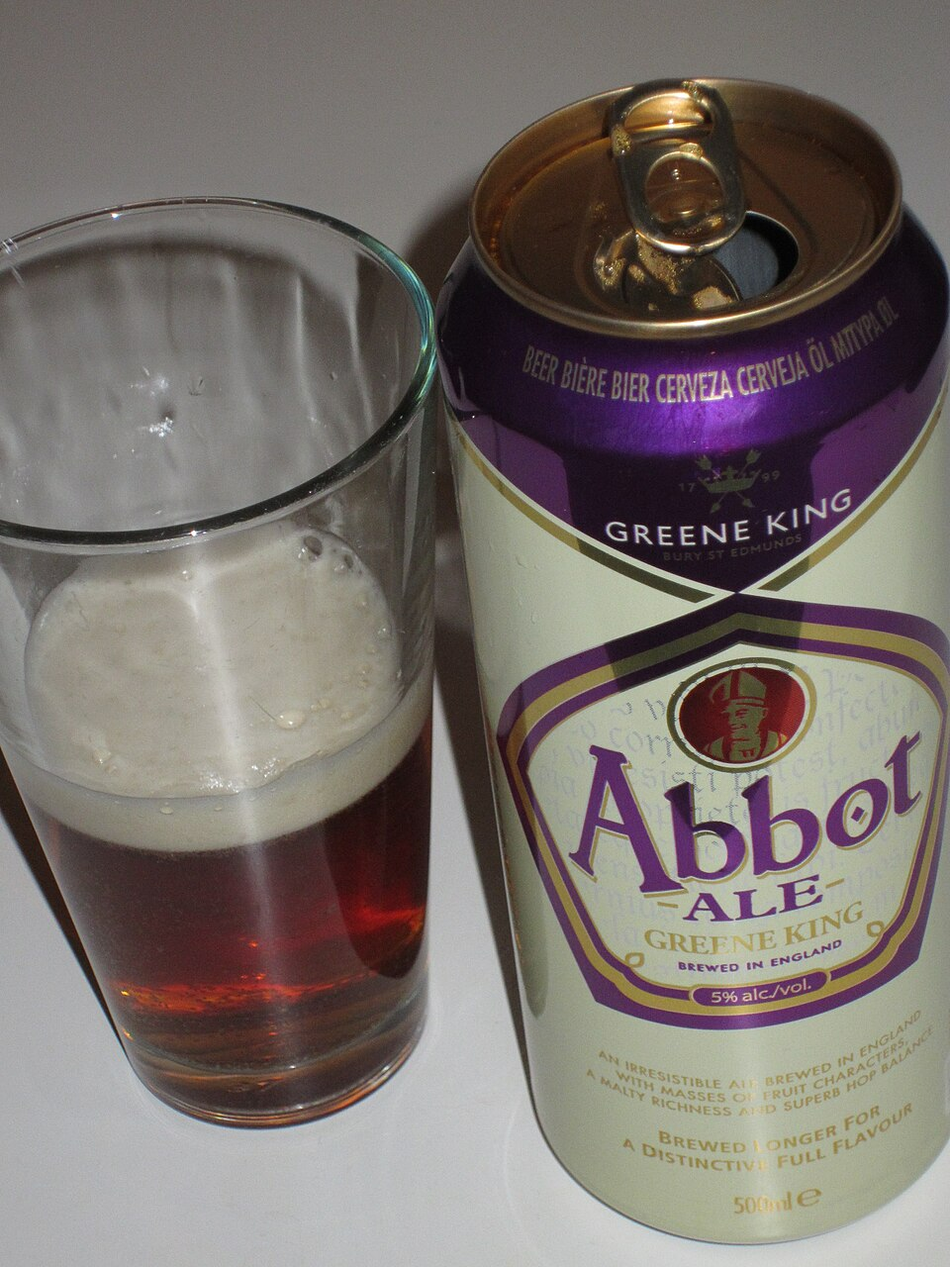beer-can: (431, 53, 950, 1238)
